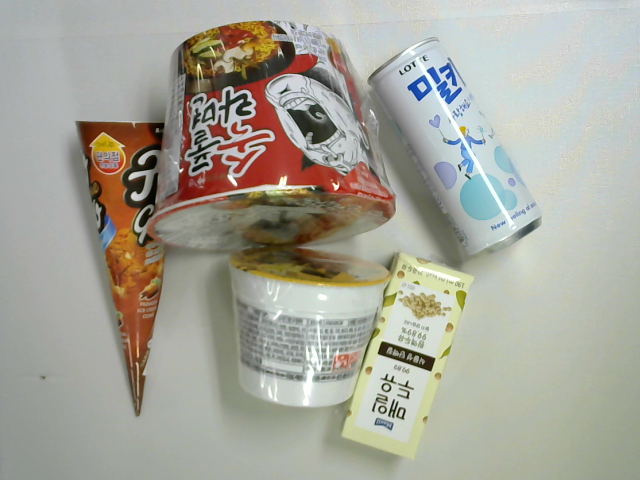99.89_Soymilk: (337, 253, 474, 460)
GooGoo_Cone_CVS: (75, 117, 173, 414)
Hejangmini: (227, 247, 393, 415)
Hejangpul: (158, 11, 401, 258)
Milkies_250ml: (361, 37, 544, 262)
